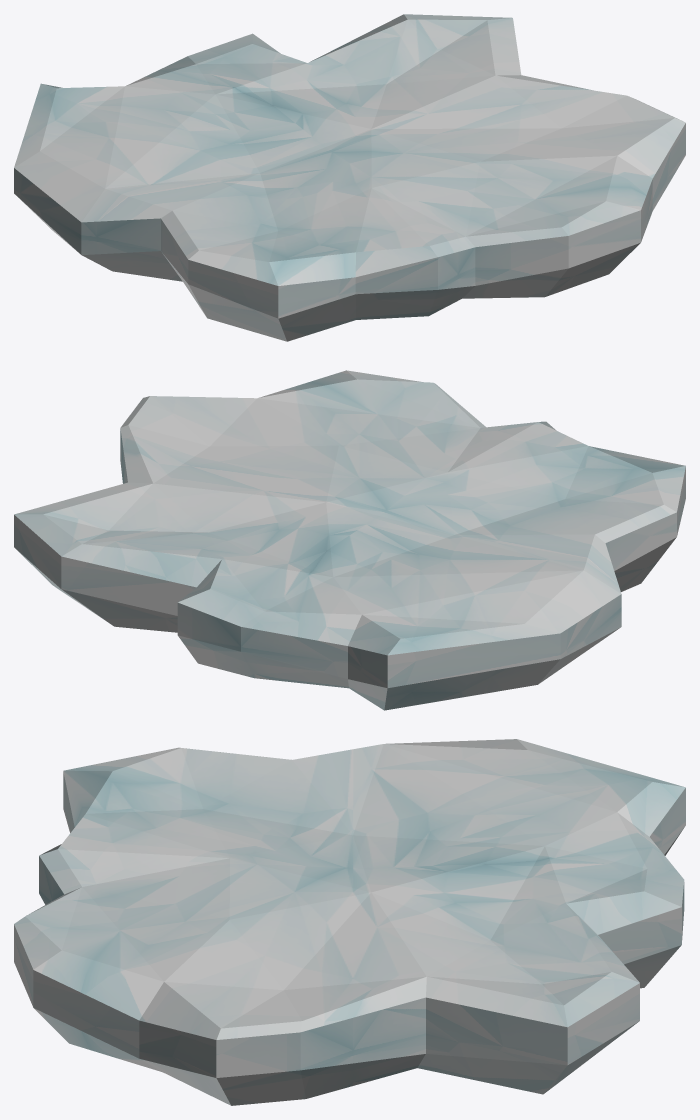
The model's file is synty-terrain-ice-01.gltf.
3 views of the same model, one above another, from view 1: azimuth 30°, elevation 25°; view 2: azimuth 150°, elevation 25°; view 3: azimuth 270°, elevation 25° (orthographic). The views are drawn at different scales.
Parts seen in each view (by area): view 1: SM_Terrain_Ice_01; view 2: SM_Terrain_Ice_01; view 3: SM_Terrain_Ice_01.
Boxes of the visible parts, x1,y1,x2,y2 form: SM_Terrain_Ice_01: [14, 14, 685, 341]; SM_Terrain_Ice_01: [14, 370, 685, 710]; SM_Terrain_Ice_01: [14, 739, 685, 1105].
Bounding box in the file's own units: 2.37 × 0.3202 × 2.18.
Materials: 1 (1 with a texture image).
